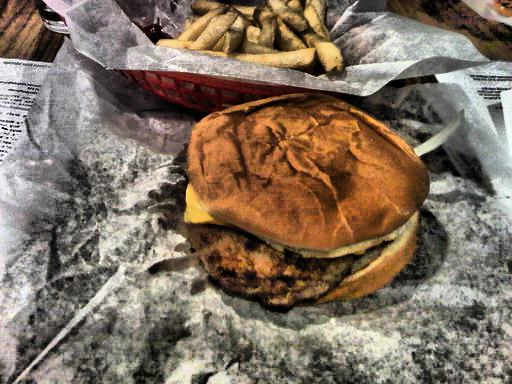burger: (163, 97, 427, 326)
